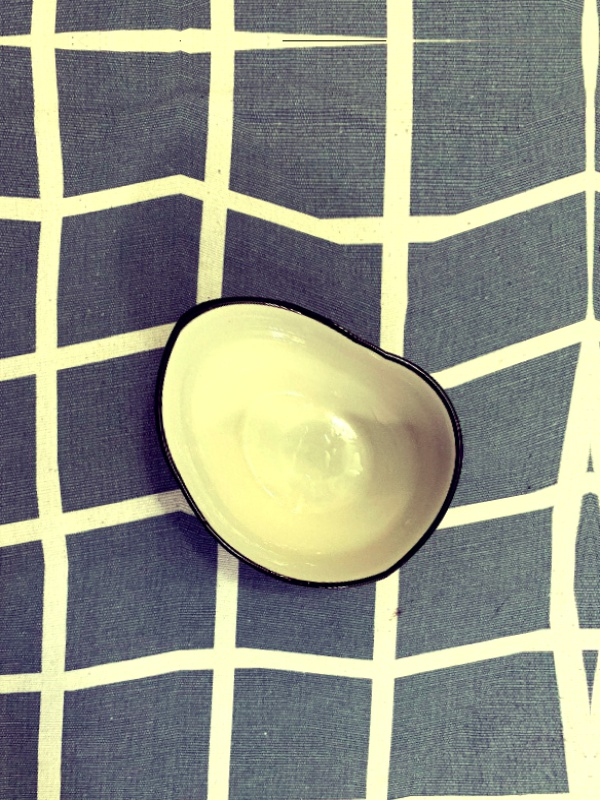bowl_small: (141, 261, 488, 591)
